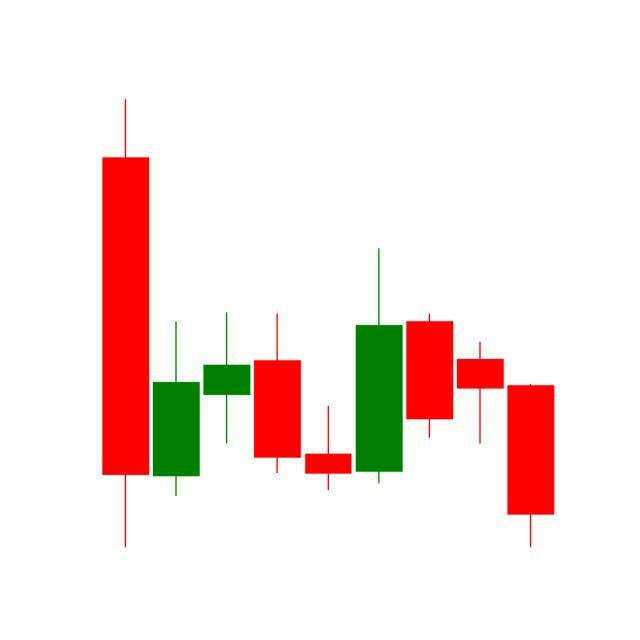Hikkake Pattern: (252, 246, 506, 495)
